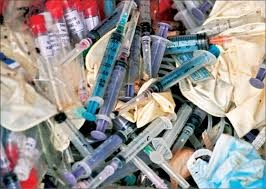plastic: (78, 1, 146, 142), (116, 40, 224, 121), (62, 115, 177, 189)
